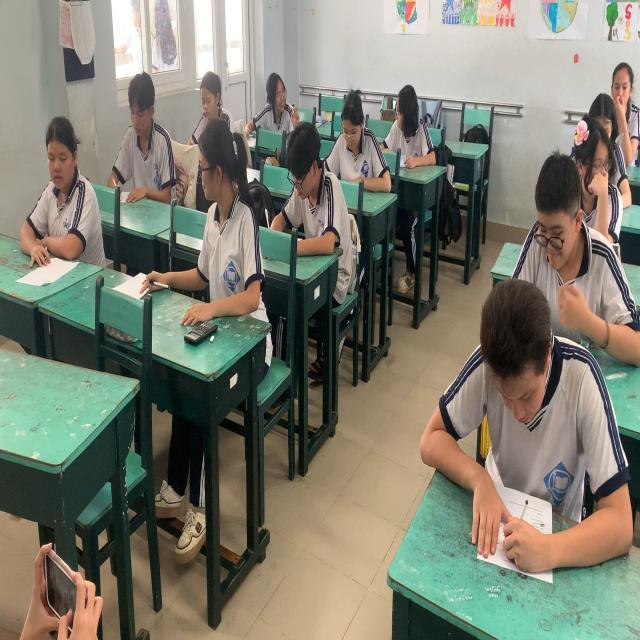cheating: (185, 121, 267, 317), (580, 99, 618, 209), (380, 75, 422, 158), (253, 68, 298, 133)
not_cheating: (421, 303, 611, 584), (526, 147, 612, 310), (26, 113, 90, 296), (110, 75, 178, 196), (278, 130, 340, 262), (327, 92, 392, 188), (597, 48, 636, 124), (193, 64, 229, 120)
